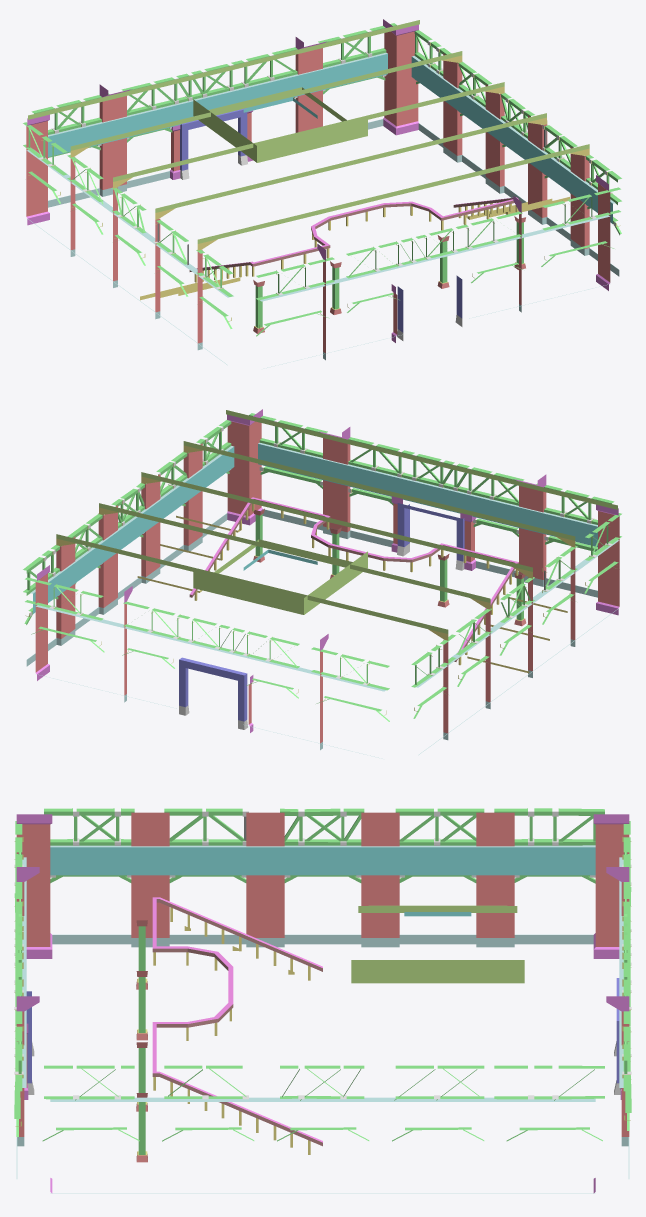
Rendered from L2fortress_01_S__fort01_command_in.gltf.
3 renders of one model, top to bottom at view 1: azimuth 30°, elevation 25°; view 2: azimuth 150°, elevation 25°; view 3: azimuth 270°, elevation 25°, orthographic. The views are drawn at different scales.
Parts seen in each view (by area): view 1: fort01_command_in; view 2: fort01_command_in; view 3: fort01_command_in.
Boxes of the visible parts, box(x1,y1,x2,y2) form: fort01_command_in: box(23, 19, 621, 368); fort01_command_in: box(23, 409, 621, 758); fort01_command_in: box(14, 808, 631, 1193).
Bounding box in the file's own units: 12.1 × 3.24 × 12.1.
